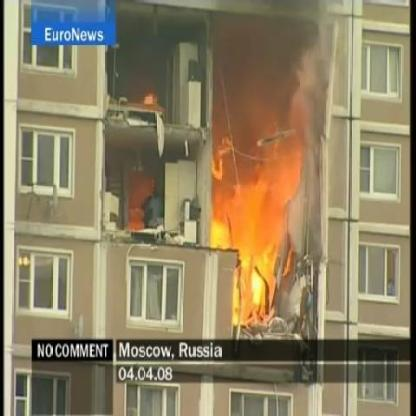fire: (233, 232, 280, 324), (211, 213, 235, 253), (143, 92, 158, 106)
